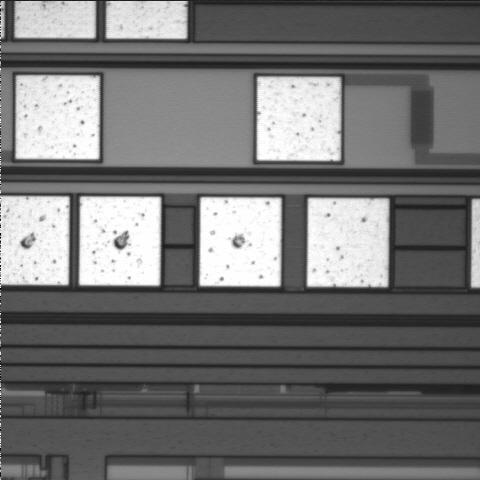pad: (199, 197, 281, 287), (79, 197, 161, 286), (307, 198, 389, 287), (257, 77, 341, 161), (16, 75, 99, 159)
